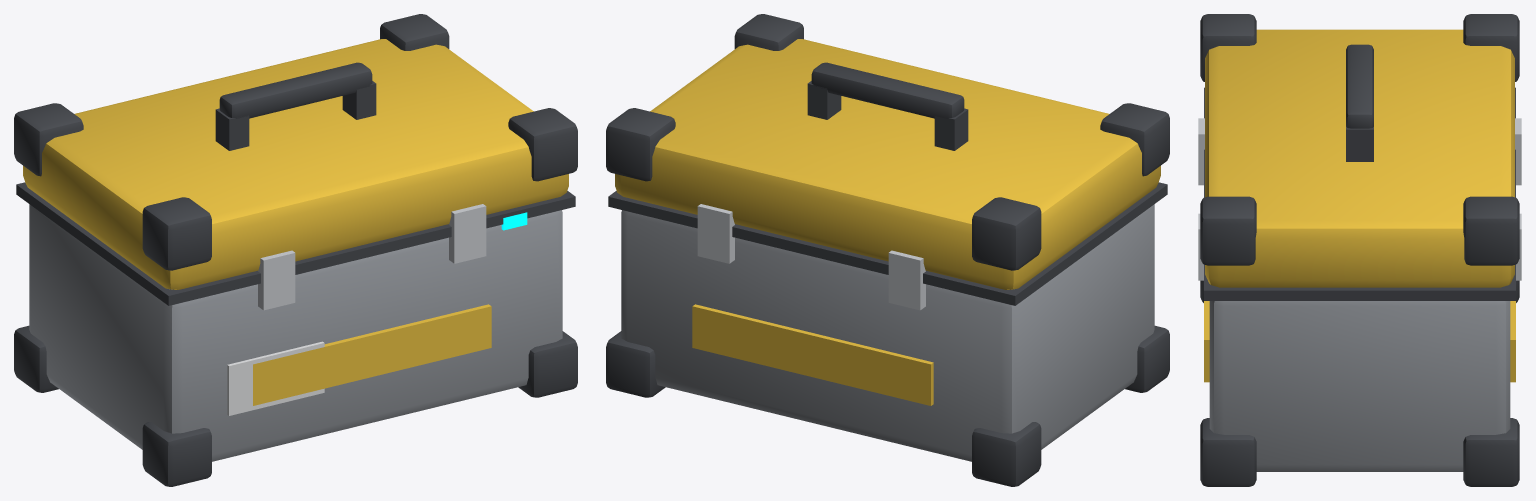
File: FV_Tool_Crate.fbx
3 renders of one model, left to right at view 1: azimuth 30°, elevation 25°; view 2: azimuth 150°, elevation 25°; view 3: azimuth 270°, elevation 25°, orthographic. The views are drawn at different scales.
Parts seen in each view (by area): view 1: Tool_Crate; view 2: Tool_Crate; view 3: Tool_Crate.
Boxes of the visible parts, x1,y1,x2,y2 form: Tool_Crate: (14,14,577,486); Tool_Crate: (606,14,1169,486); Tool_Crate: (1198,14,1521,486).
Bounding box in the file's own units: 0.52 × 0.3625 × 0.344.
